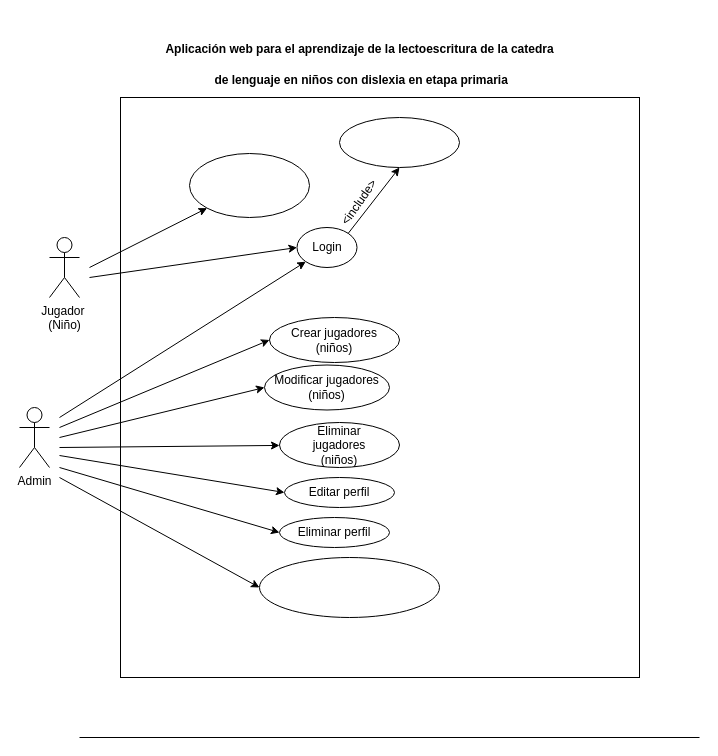
Some shapes in this 718 by 756 pixel diagram are drawn without their labels. The centre of each missing label's shape, as x and y in pixels:
Jugar con los juegos correspondientes: point (249, 185)
Observar los procesos de los jugadores (niños): point (349, 587)
Verificación de los credenciales: point (399, 142)
